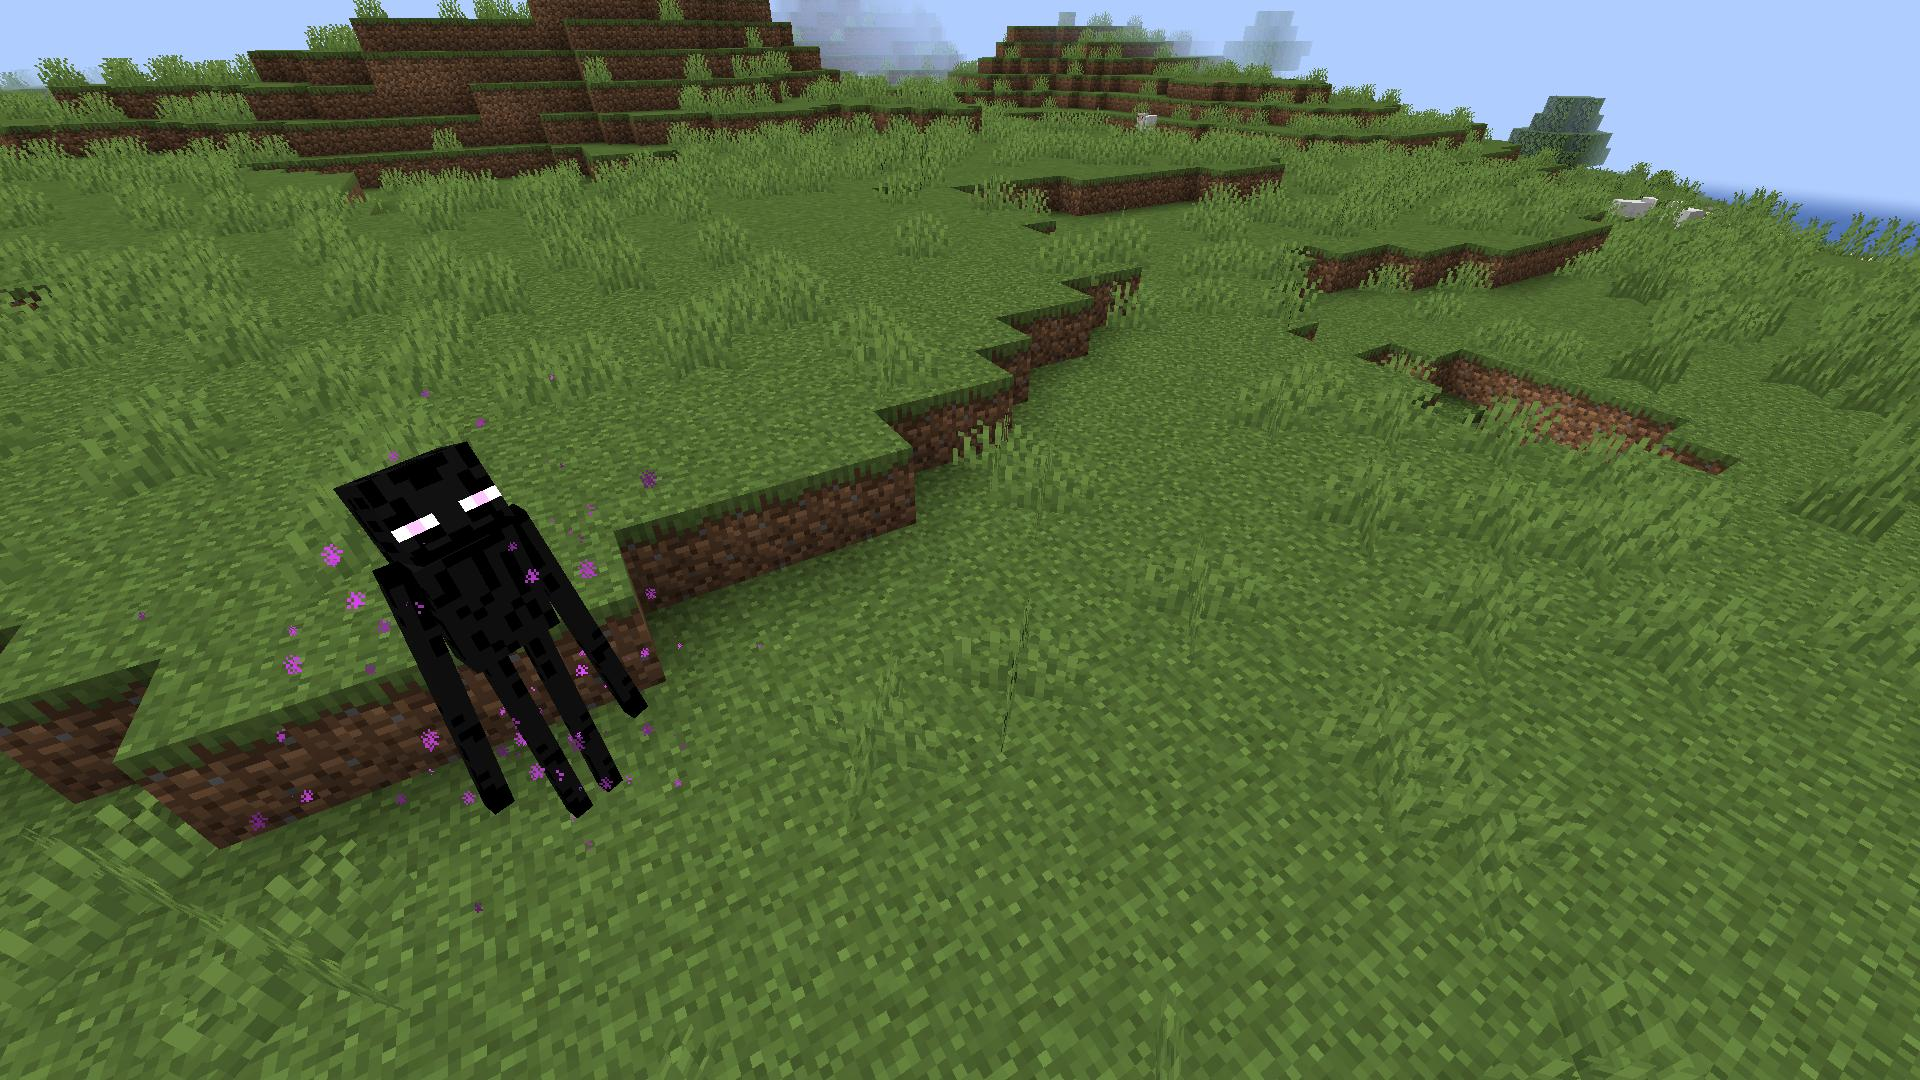enderman: (335, 426, 673, 825)
sheep: (1609, 191, 1659, 231), (1662, 196, 1704, 236), (1135, 109, 1159, 133)
